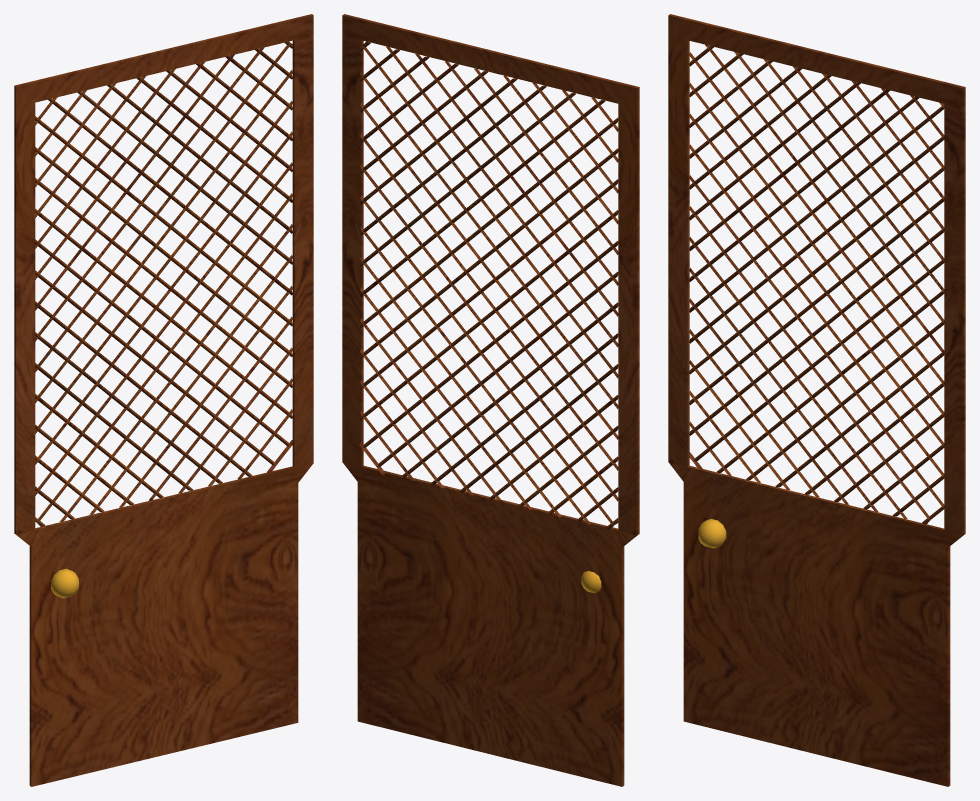
Rendered from confessional_door.glb.
3 views of the same model, side by side, from view 1: azimuth 30°, elevation 25°; view 2: azimuth 150°, elevation 25°; view 3: azimuth 330°, elevation 25° (orthographic).
Visible parts, largest first — view 1: Door; view 2: Door; view 3: Door.
Boxes of the visible parts, x1,y1,x2,y2 form: Door: [14, 14, 313, 786]; Door: [342, 14, 639, 786]; Door: [668, 14, 965, 786].
Bounding box in the file's own units: 1.43 × 3.24 × 0.1186.
Materials: 2 (1 with a texture image).
